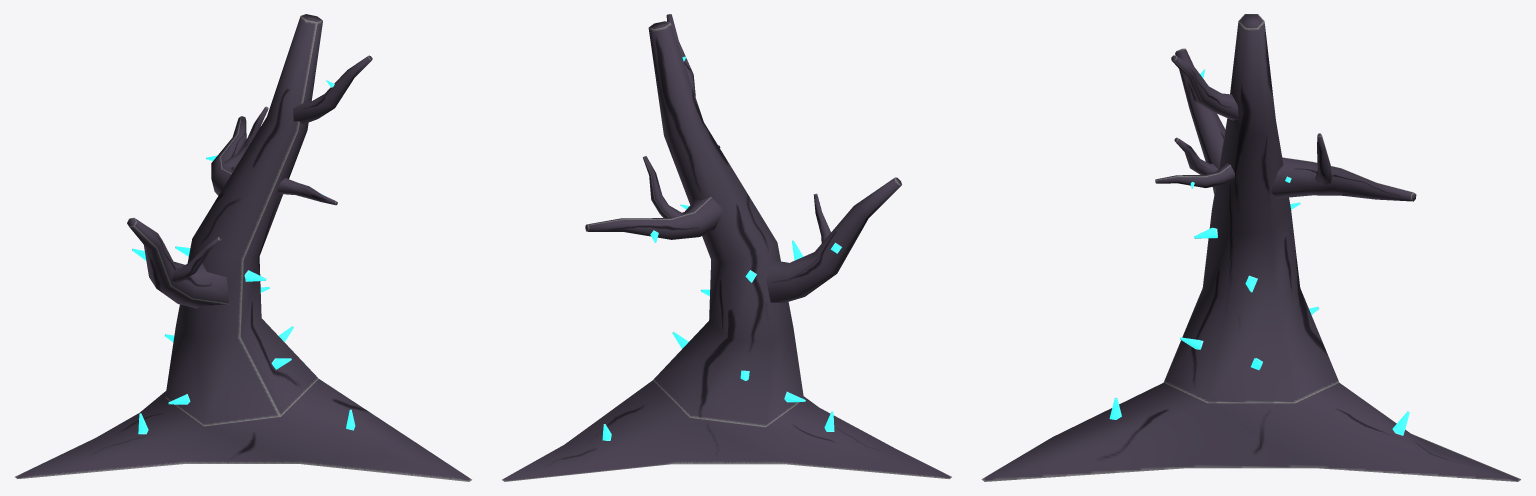
File: TreeSpikes.fbx
The picture shows the model from 3 angles, left to right: view 1: azimuth 30°, elevation 25°; view 2: azimuth 150°, elevation 25°; view 3: azimuth 270°, elevation 25°; orthographic projection. The views are drawn at different scales.
Visible parts, largest first — view 1: TreeSpikes; view 2: TreeSpikes; view 3: TreeSpikes.
Boxes of the visible parts, x1=… form: TreeSpikes: x1=15, y1=14, x2=471, y2=481; TreeSpikes: x1=502, y1=14, x2=951, y2=481; TreeSpikes: x1=981, y1=14, x2=1520, y2=481.
Size of the model in its own units: 129 by 142 by 158.
